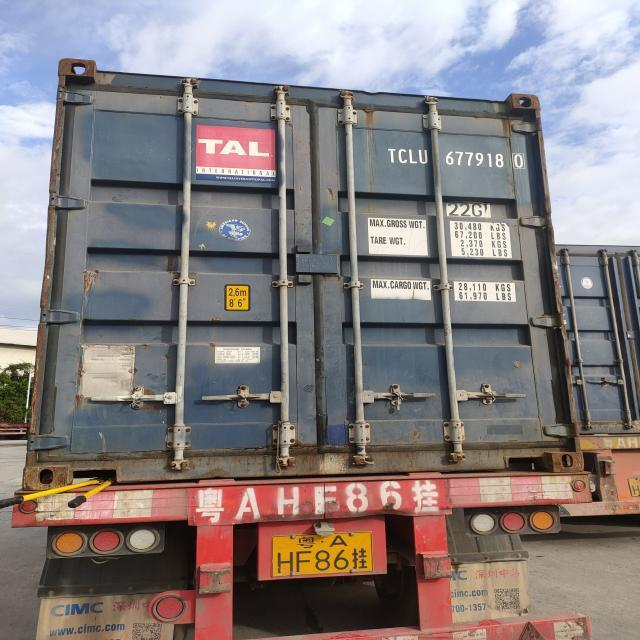ISO: (448, 200, 490, 218)
container_number: (388, 150, 526, 170)
